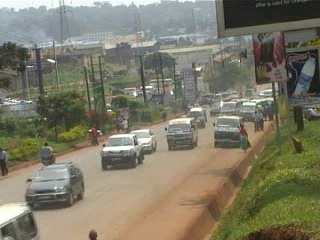Car: (22, 161, 87, 209), (125, 126, 159, 156), (207, 99, 226, 116)
Motorcycle: (41, 144, 56, 167)
